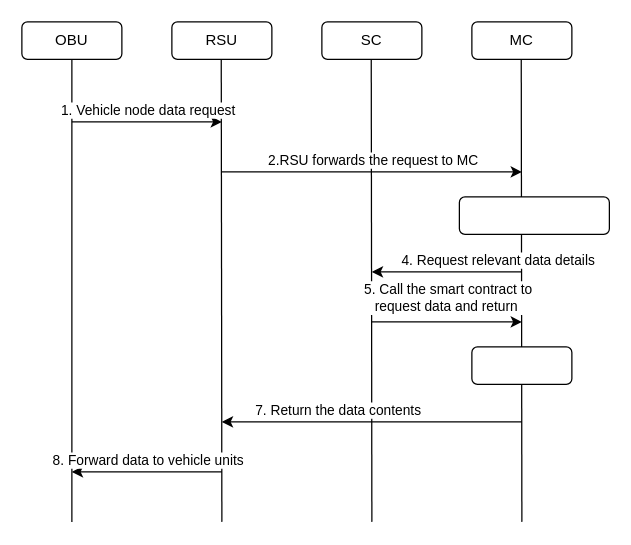
Image size: 631x545. Some labels were removed from this diagram. Each missing label, with the centre of its shape:
"3. Verify vehicle identity and request" belongs at [533,215].
"6. Consolidate data content" belongs at [521,365].
